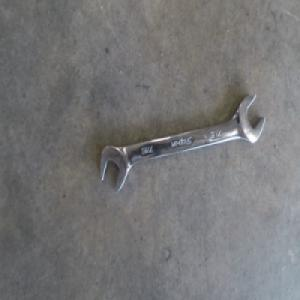Wrench: (100, 93, 266, 191)
